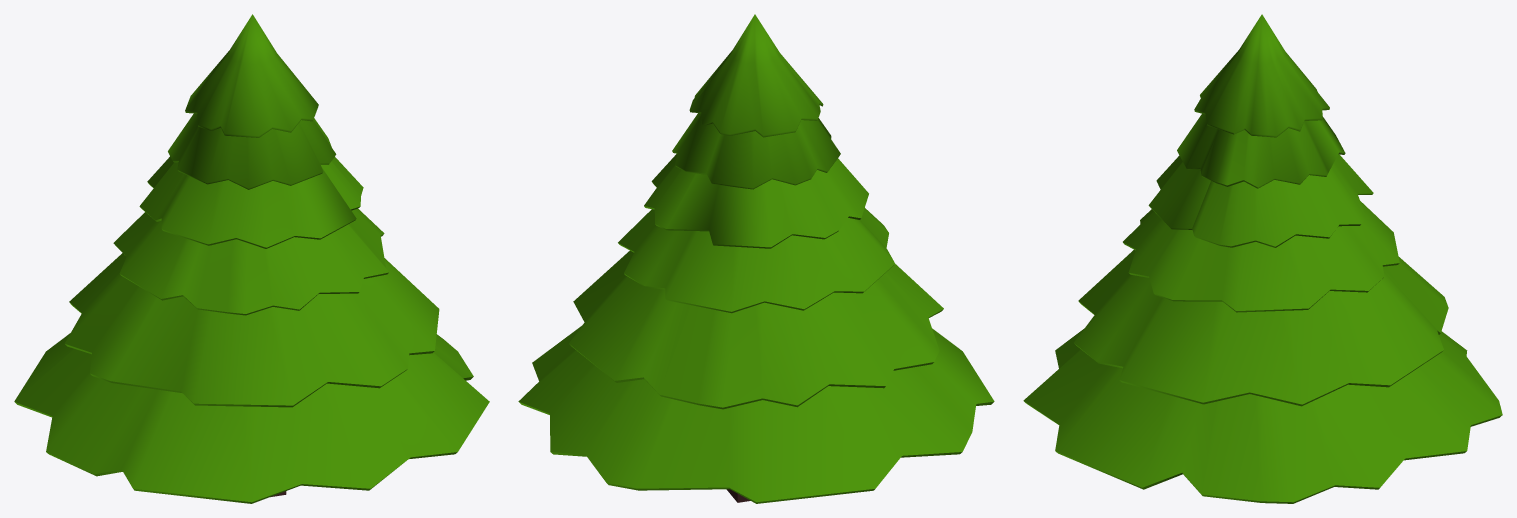
File: Tree_3.fbx
3 renders of one model, left to right at view 1: azimuth 30°, elevation 25°; view 2: azimuth 150°, elevation 25°; view 3: azimuth 270°, elevation 25°, orthographic.
Visible parts, largest first — view 1: Circle.005; view 2: Circle.005; view 3: Circle.005.
Part boxes in pixels (bbox=[...]): Circle.005: bbox=[14, 14, 489, 503]; Circle.005: bbox=[518, 14, 994, 503]; Circle.005: bbox=[1023, 14, 1502, 503].
Size of the model in its own units: 201 by 220 by 202.
